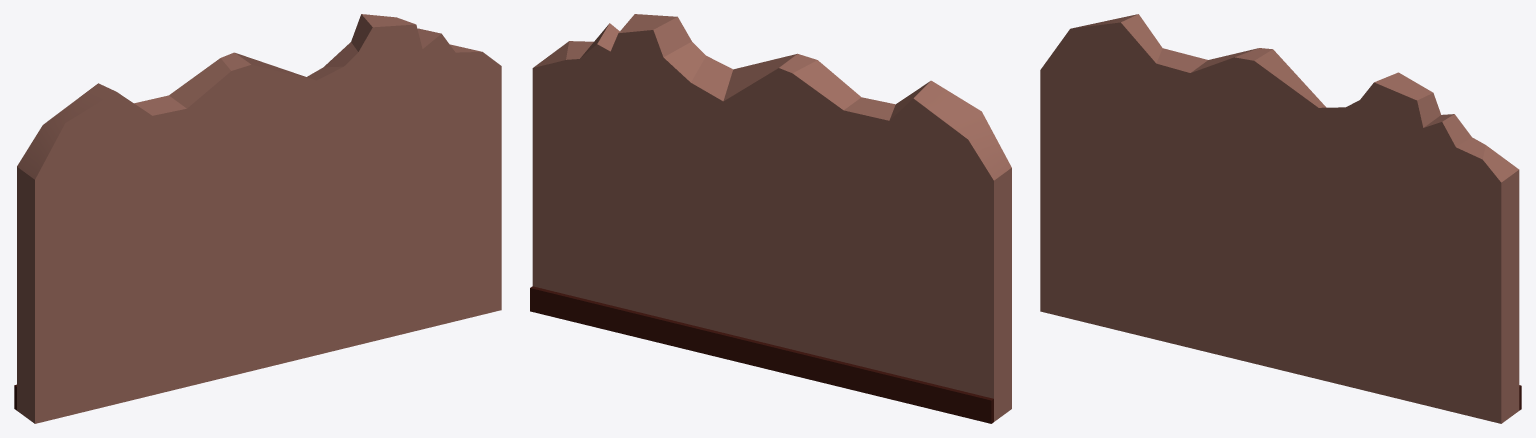
The picture shows the model from 3 angles, left to right: view 1: azimuth 30°, elevation 25°; view 2: azimuth 150°, elevation 25°; view 3: azimuth 330°, elevation 25°; orthographic projection.
Parts seen in each view (by area): view 1: TM2; view 2: TM2; view 3: TM2.
Boxes of the visible parts, x1,y1,x2,y2 form: TM2: (14, 14, 501, 423); TM2: (530, 14, 1011, 423); TM2: (1040, 14, 1521, 423).
Size of the model in its own units: 200 by 129 by 15.31.
